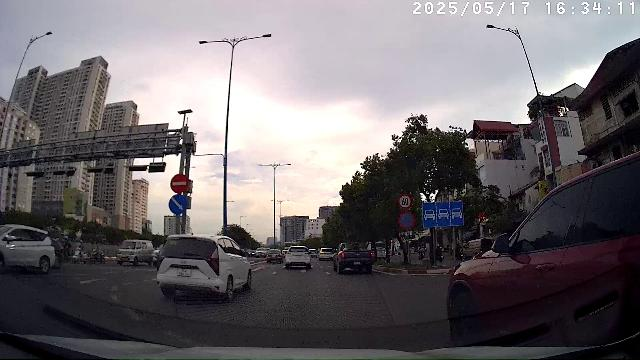127-toc-do-toi-da-60: (170, 173, 189, 194), (397, 193, 413, 209)
130-cam-dung-va-do-xe: (398, 212, 415, 229)
302a-huong-phai-di-vong-chuong-ngai-vat-1: (168, 194, 187, 215)
